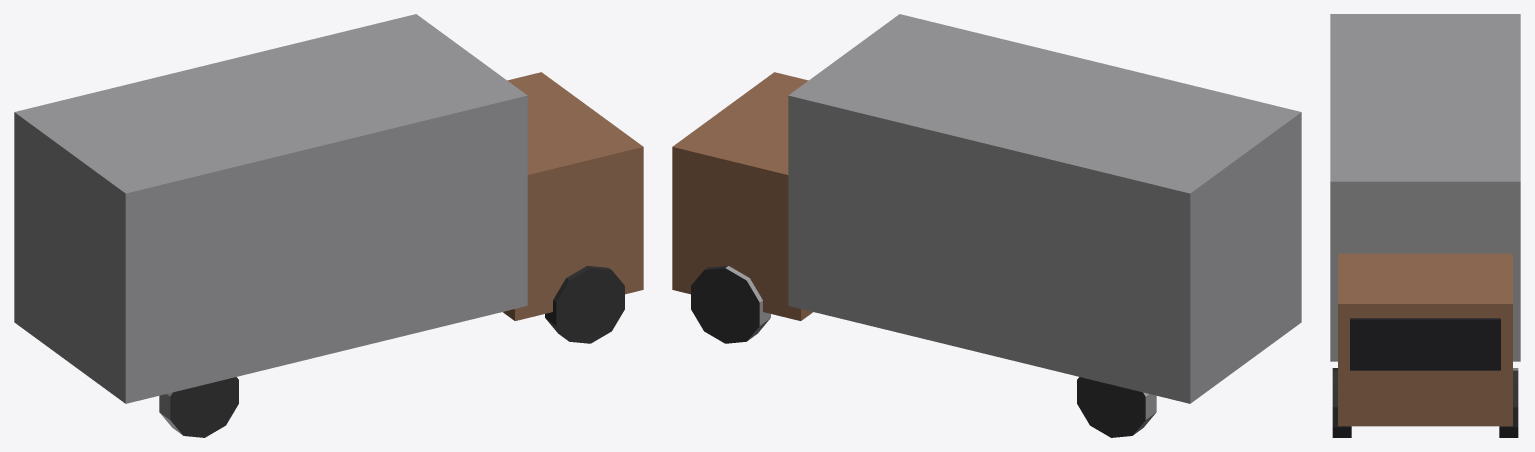
The model's file is v2_truck.glb.
3 views of the same model, side by side, from view 1: azimuth 30°, elevation 25°; view 2: azimuth 150°, elevation 25°; view 3: azimuth 270°, elevation 25° (orthographic). The views are drawn at different scales.
Visible parts, largest first — view 1: v2_truck; view 2: v2_truck; view 3: v2_truck.
Boxes of the visible parts, <box> form: v2_truck: <box>14,14,643,437</box>; v2_truck: <box>672,14,1301,437</box>; v2_truck: <box>1330,14,1520,437</box>.
Bounding box in the file's own units: 6.55 × 3.15 × 2.4.
